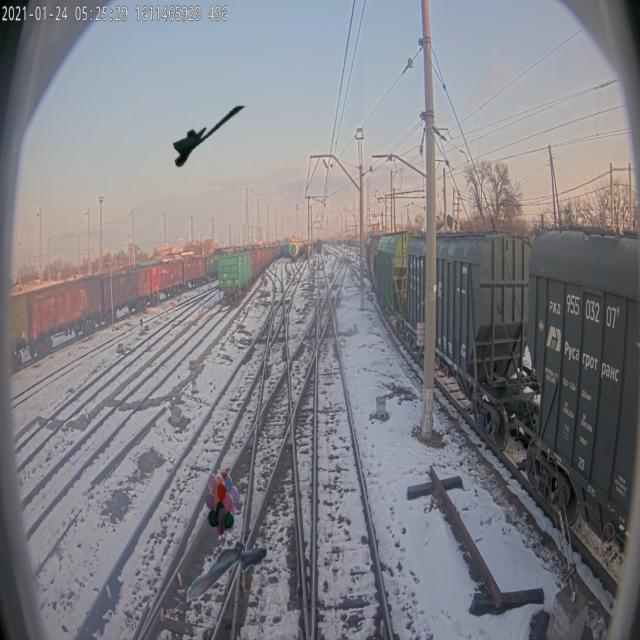balloon: (205, 472, 239, 536)
floating object: (186, 540, 267, 604), (174, 104, 248, 168)
